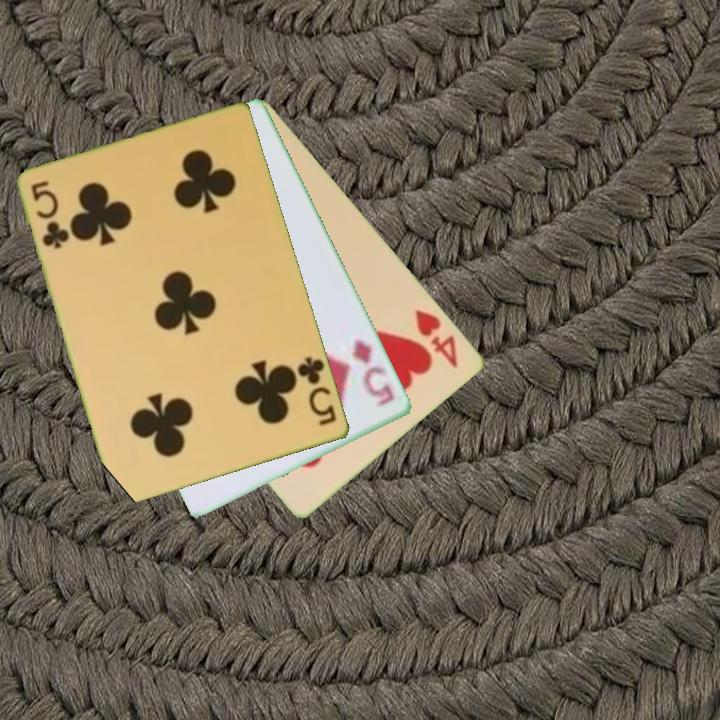4h: (412, 305, 462, 371)
5c: (294, 353, 340, 429), (28, 177, 72, 253)
5d: (348, 336, 398, 410)
